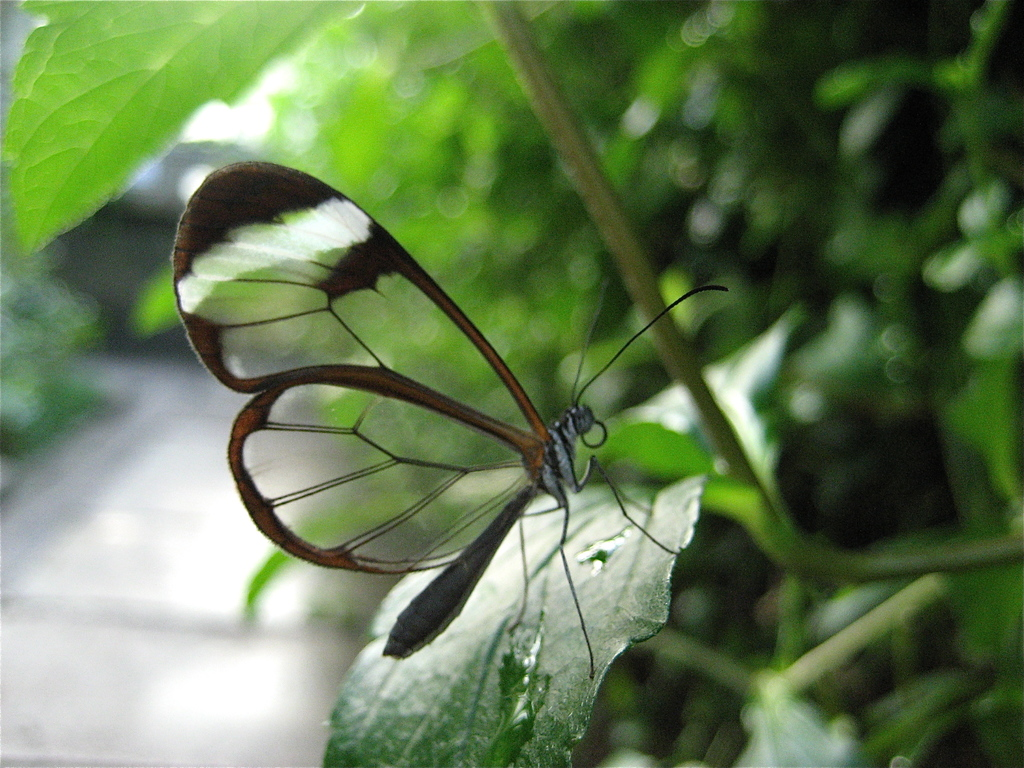Butterfly: (150, 150, 676, 679)
